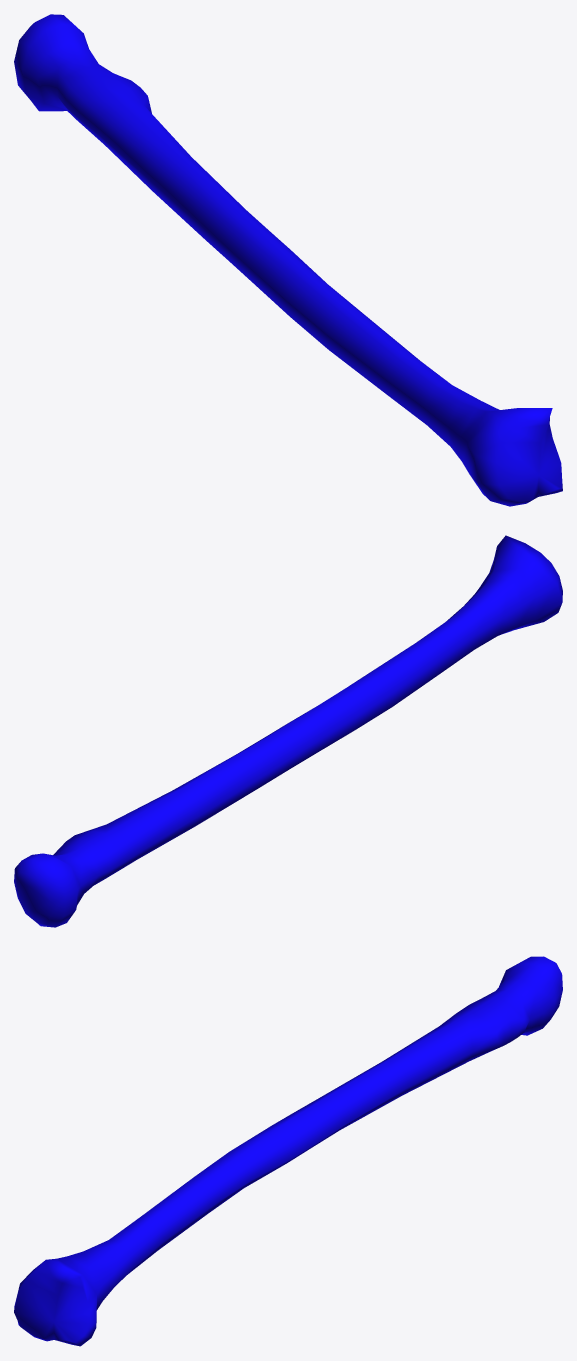
Rendered from SM_R_Ulna.FBX.
3 views of the same model, one above another, from view 1: azimuth 30°, elevation 25°; view 2: azimuth 150°, elevation 25°; view 3: azimuth 330°, elevation 25° (orthographic). The views are drawn at different scales.
Visible parts, largest first — view 1: R_Ulna; view 2: R_Ulna; view 3: R_Ulna.
Boxes of the visible parts, left/top/right/bottom form: R_Ulna: left=14, top=14, right=562, bottom=506; R_Ulna: left=14, top=535, right=562, bottom=927; R_Ulna: left=14, top=956, right=562, bottom=1346.
Size of the model in its own units: 4.03 by 2.66 by 29.6.
